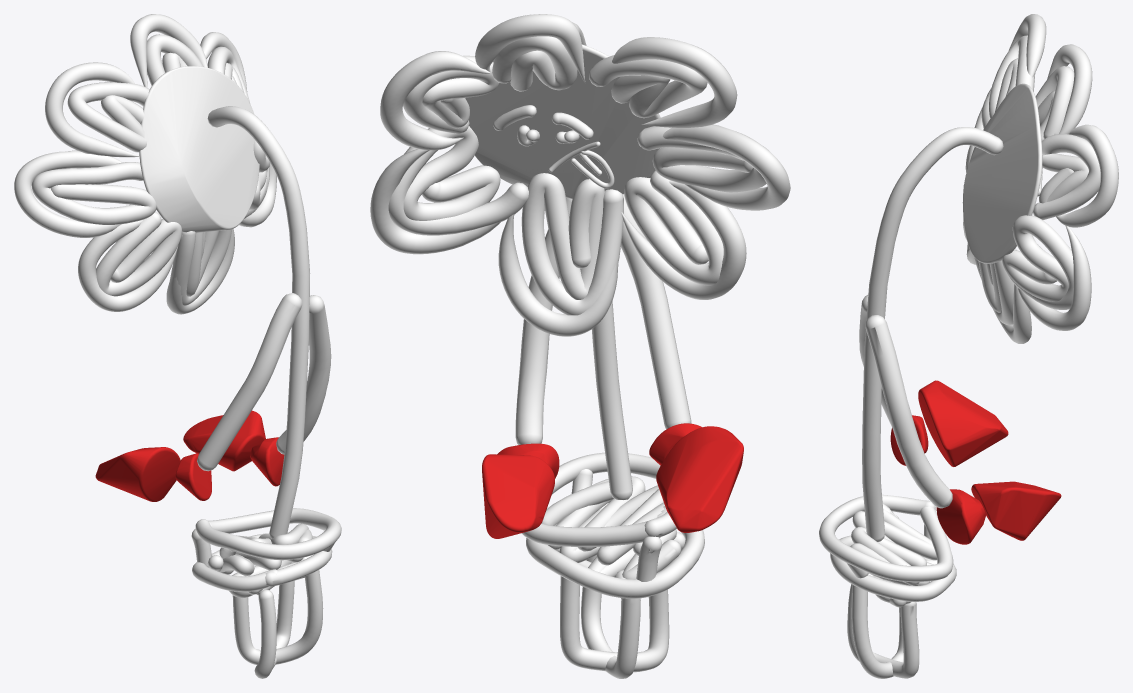
Rendered from planta.glb.
3 views of the same model, side by side, from view 1: azimuth 30°, elevation 25°; view 2: azimuth 150°, elevation 25°; view 3: azimuth 270°, elevation 25° (orthographic). The views are drawn at different scales.
Visible parts, largest first — view 1: planta; view 2: planta; view 3: planta.
Part boxes in pixels (bbox=[...]): planta: bbox=[14, 14, 341, 678]; planta: bbox=[370, 14, 790, 678]; planta: bbox=[819, 14, 1118, 678].
Size of the model in its own units: 0.9395 by 1.81 by 0.8072.
Materials: 1 (1 with a texture image).
